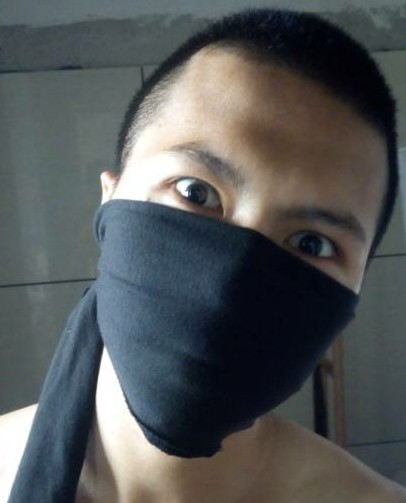face_mask: (115, 78, 370, 430)
